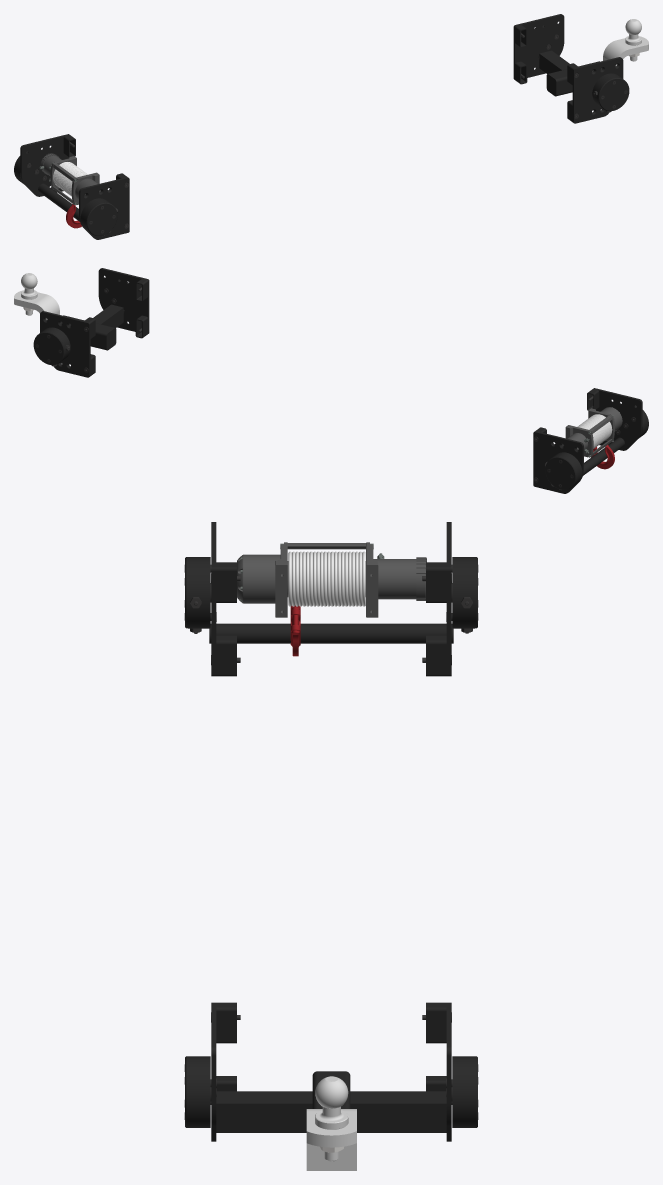
The model's file is accessories.glb.
3 views of the same model, one above another, from view 1: azimuth 30°, elevation 25°; view 2: azimuth 150°, elevation 25°; view 3: azimuth 270°, elevation 25° (orthographic). The views are drawn at different scales.
Visible parts, largest first — view 1: RearEnd_Bracket, FrontEnd_Bracket, Acc_Hitch (×2), Acc_Winch (×3); view 2: RearEnd_Bracket, FrontEnd_Bracket, Acc_Winch (×3), Acc_Hitch (×2); view 3: Acc_Winch (×3), Acc_Hitch (×2), FrontEnd_Bracket, RearEnd_Bracket.
Boxes of the visible parts, box(x1,y1,x2,y2) form: RearEnd_Bracket: box(513, 14, 629, 123); FrontEnd_Bracket: box(14, 134, 129, 239); Acc_Hitch (×2): box(539, 19, 648, 109); Acc_Winch (×3): box(38, 153, 100, 236); RearEnd_Bracket: box(33, 268, 149, 377); FrontEnd_Bracket: box(533, 388, 648, 493); Acc_Winch (×3): box(562, 407, 624, 490); Acc_Hitch (×2): box(14, 273, 123, 363); Acc_Winch (×3): box(209, 542, 453, 643); Acc_Hitch (×2): box(216, 1071, 446, 1170); FrontEnd_Bracket: box(185, 522, 477, 676); RearEnd_Bracket: box(185, 1002, 477, 1141).
Size of the model in its own units: 2.08 by 0.2094 by 0.4434.
